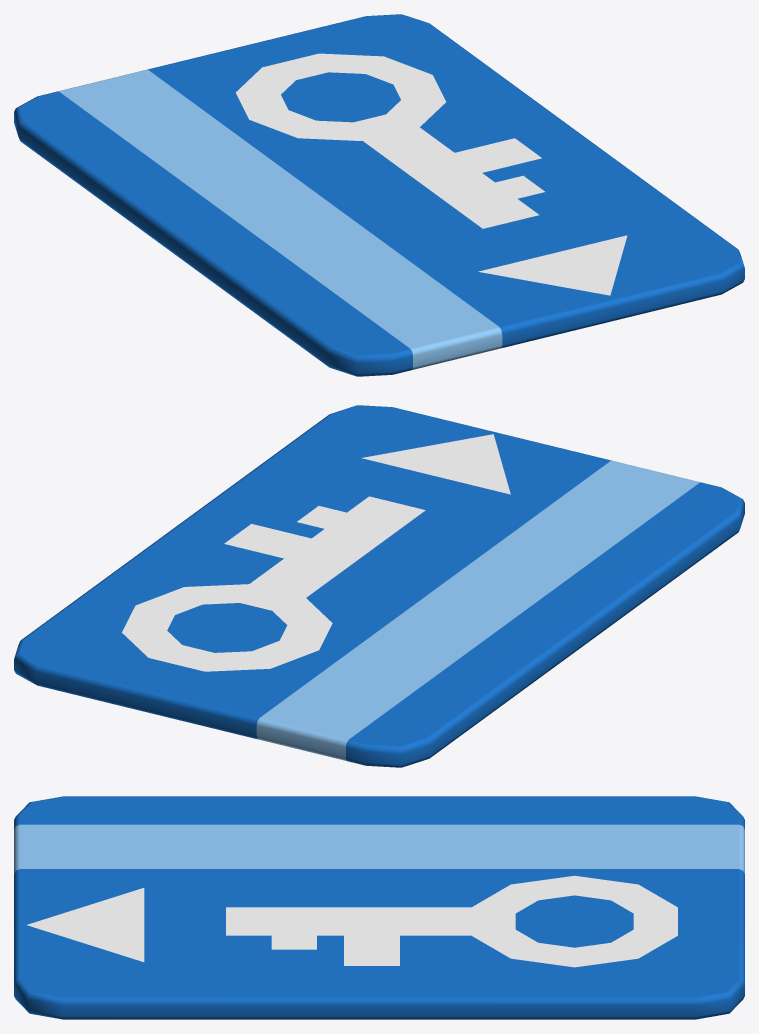
The model's file is itemKeyCard.fbx.
3 renders of one model, top to bottom at view 1: azimuth 30°, elevation 25°; view 2: azimuth 150°, elevation 25°; view 3: azimuth 270°, elevation 25°, orthographic. The views are drawn at different scales.
Visible parts, largest first — view 1: KeyCard; view 2: KeyCard; view 3: KeyCard.
Part boxes in pixels (bbox=[...]): KeyCard: bbox=[14, 14, 744, 376]; KeyCard: bbox=[14, 405, 744, 767]; KeyCard: bbox=[14, 796, 744, 1019].
Size of the model in its own units: 20.02 by 1.33 by 30.06.
